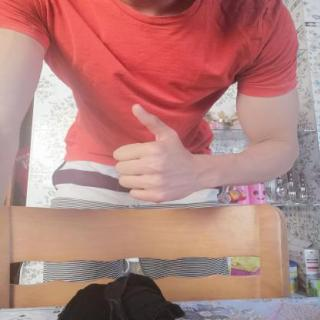ALIF: (97, 95, 211, 210)
